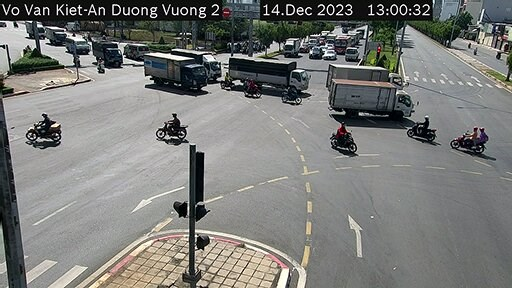motorbike: (154, 109, 190, 145), (25, 110, 62, 142), (328, 122, 358, 161), (459, 124, 487, 163), (412, 112, 439, 145)
truck: (137, 49, 206, 100), (229, 54, 305, 96), (327, 79, 415, 113), (168, 41, 221, 84), (321, 57, 392, 86), (92, 39, 120, 66)
